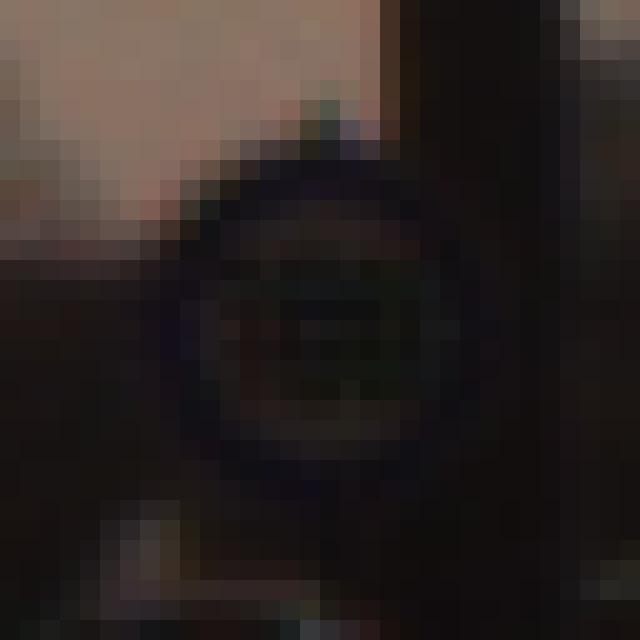SPEED LIMIT 100: (175, 185, 477, 468)
